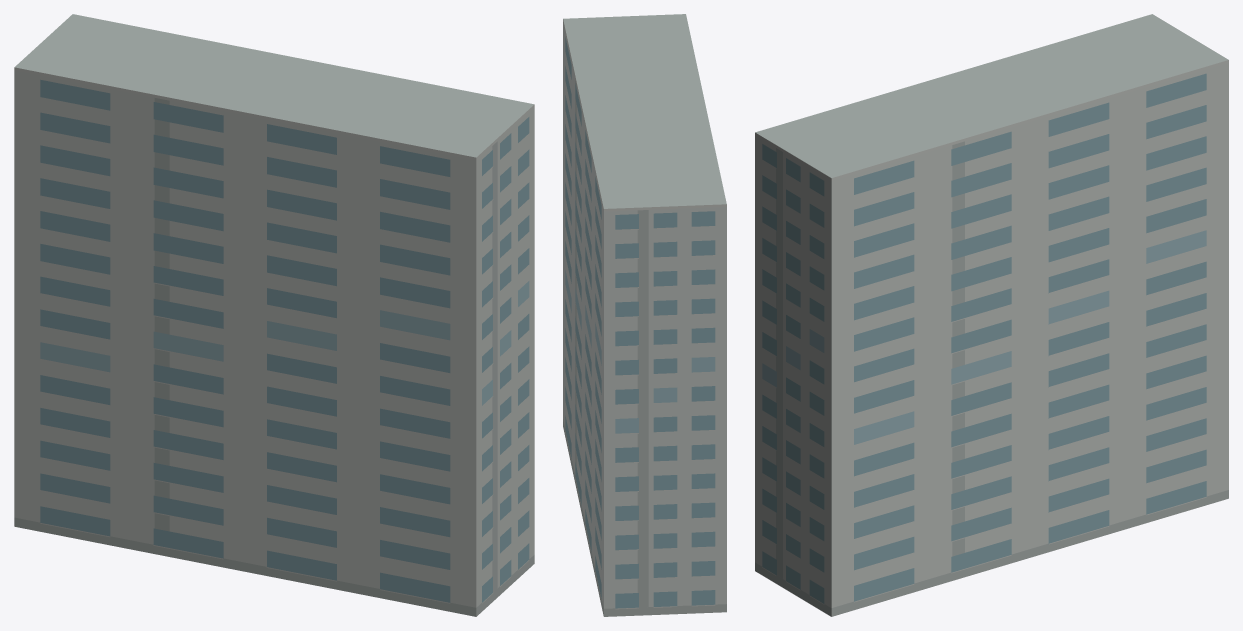
The model's file is residential-e6530d80-e1ba-4248-a910-b3b8a96a8cfa.glb.
The picture shows the model from 3 angles, left to right: view 1: azimuth 30°, elevation 25°; view 2: azimuth 150°, elevation 25°; view 3: azimuth 270°, elevation 25°; orthographic projection. The views are drawn at different scales.
Parts seen in each view (by area): view 1: residential-e6530d80-e1ba-4248-a910-b3b8a96a8cfa.tmp; view 2: residential-e6530d80-e1ba-4248-a910-b3b8a96a8cfa.tmp; view 3: residential-e6530d80-e1ba-4248-a910-b3b8a96a8cfa.tmp.
Boxes of the visible parts, box(x1,y1,x2,y2) form: residential-e6530d80-e1ba-4248-a910-b3b8a96a8cfa.tmp: box(14, 14, 534, 616); residential-e6530d80-e1ba-4248-a910-b3b8a96a8cfa.tmp: box(563, 14, 726, 616); residential-e6530d80-e1ba-4248-a910-b3b8a96a8cfa.tmp: box(755, 14, 1228, 616).
Bounding box in the file's own units: 29.71 × 37 × 36.22.
